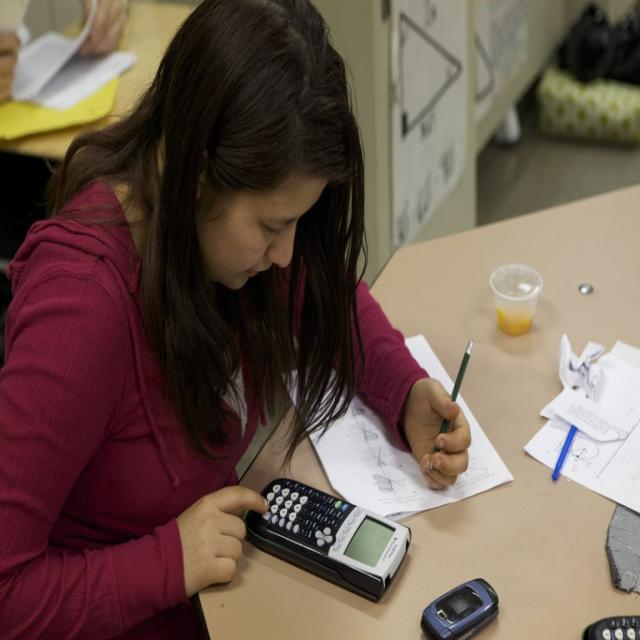Calculator: (243, 472, 415, 607)
